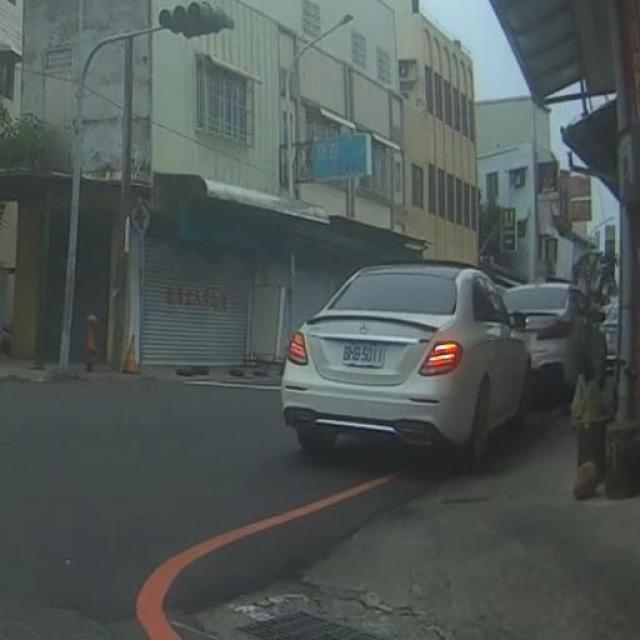illegalparking: (282, 262, 605, 468)
